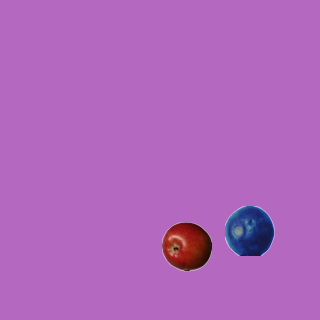Apple Braeburn: (161, 221, 211, 271)
Huckleberry: (224, 205, 274, 255)
